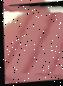scratch: (0, 0, 63, 81)
